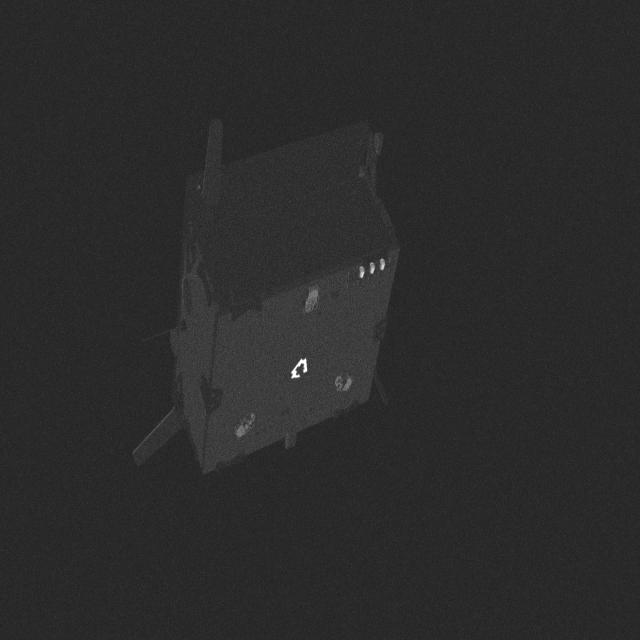medium_debris: (128, 114, 406, 496)
